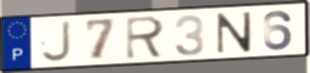3: (173, 13, 206, 57)
6: (262, 9, 295, 52)
7: (84, 16, 118, 62)
J: (40, 19, 73, 64)
N: (214, 10, 254, 55)
R: (124, 14, 167, 61)
